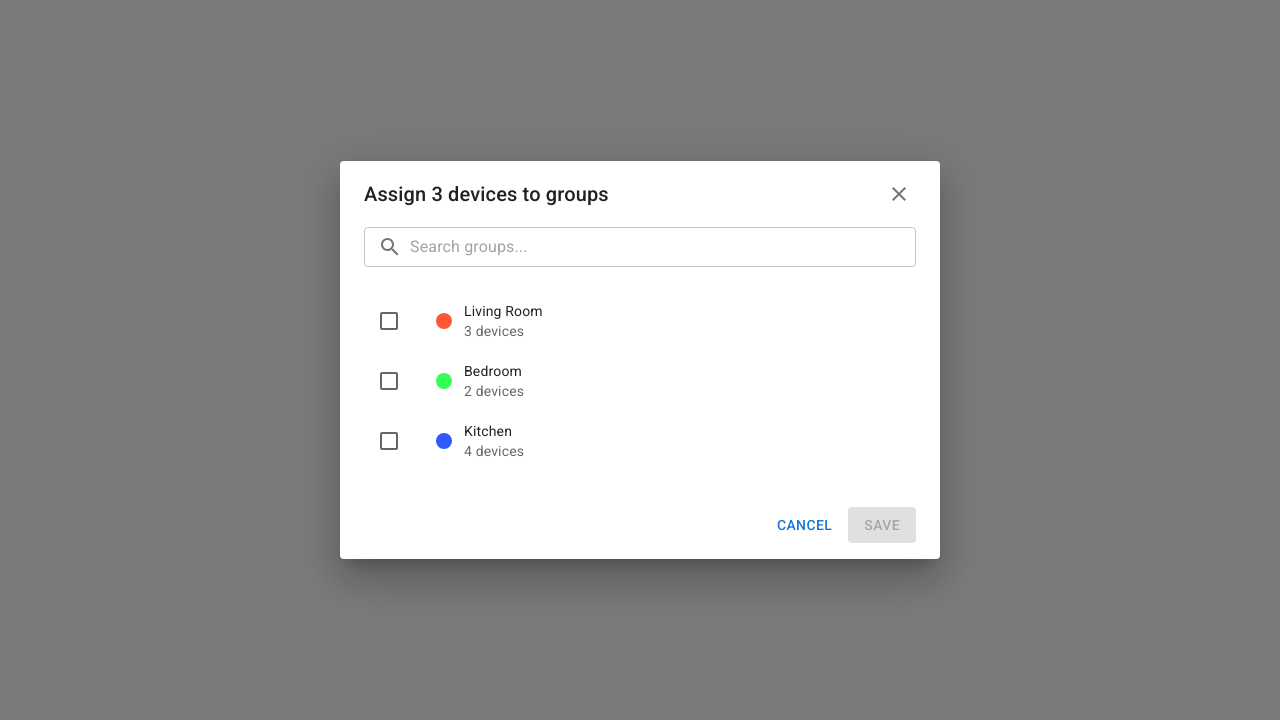
Scenario: DeviceGroupAssignment Component › Error Handling › should handle partial failure in bulk assignment
Wait for checkboxes and click one
Click the 1st checkbox at (389,321), box [377, 309, 401, 333]
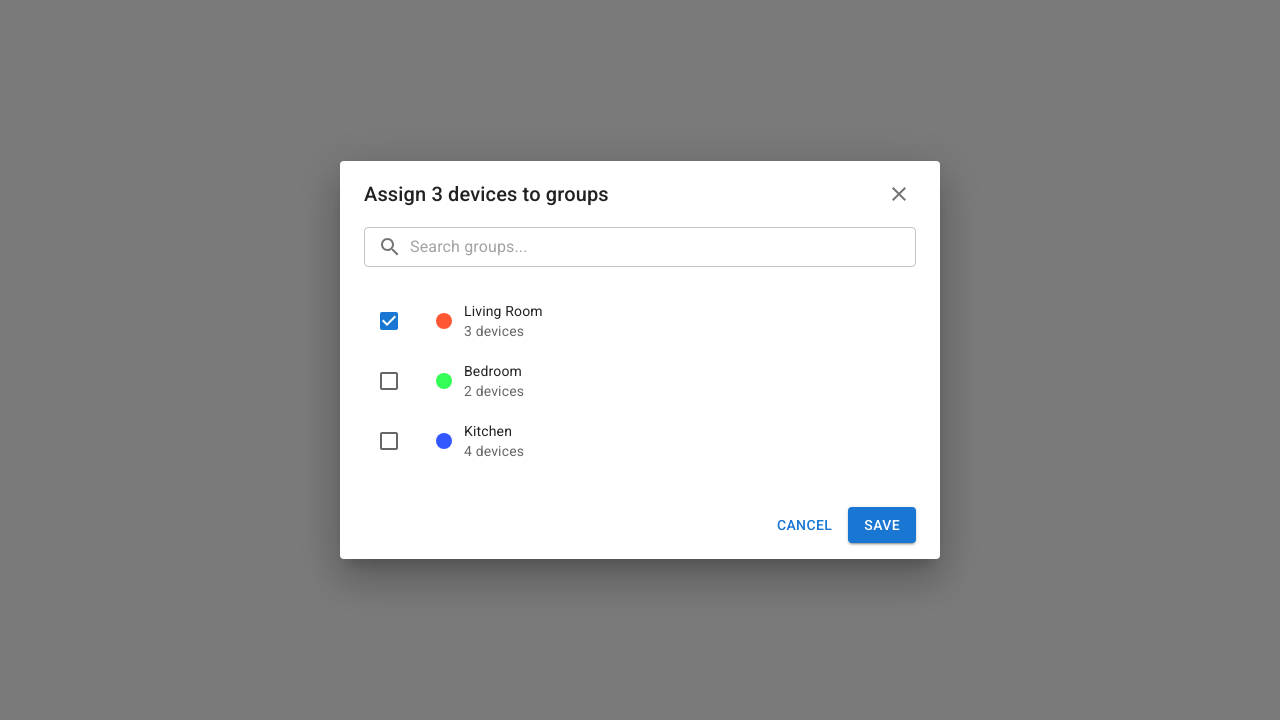
Click the button "Save" at (882,525), box [848, 507, 916, 543]
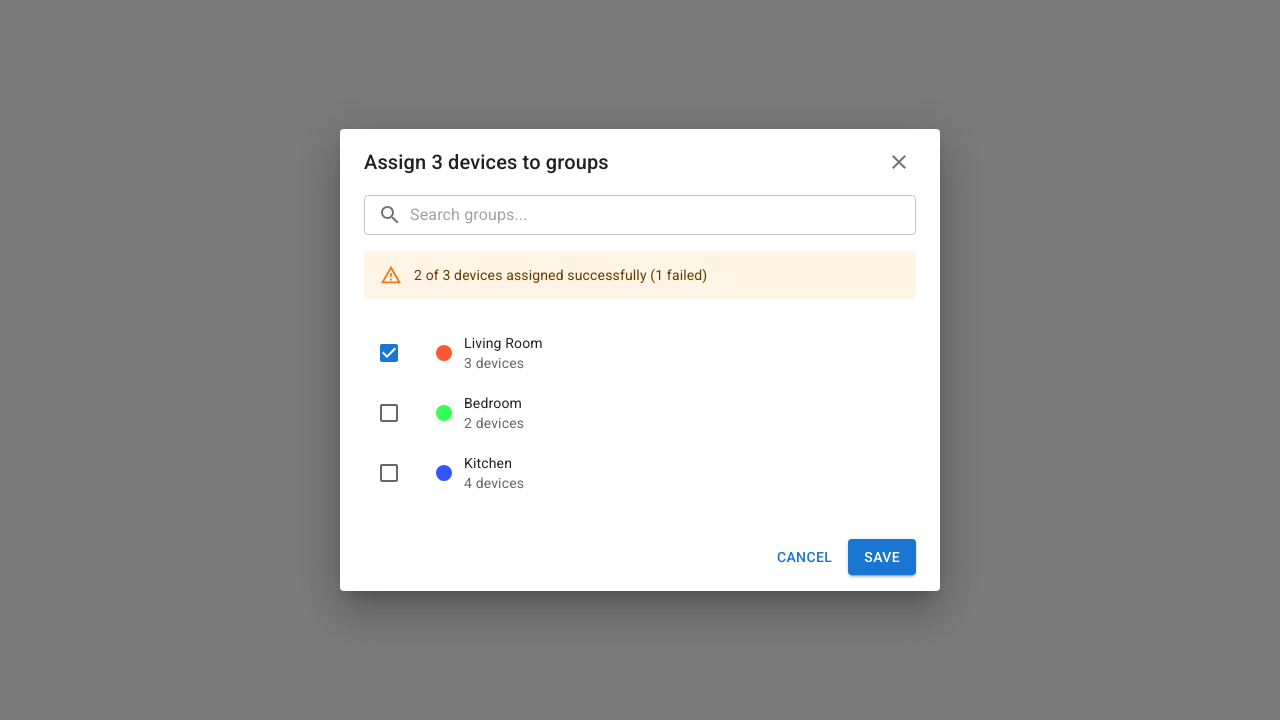
Check: the text "2 of 3 devices assigned successfully (1 failed)" is shown, box [414, 267, 707, 283]
